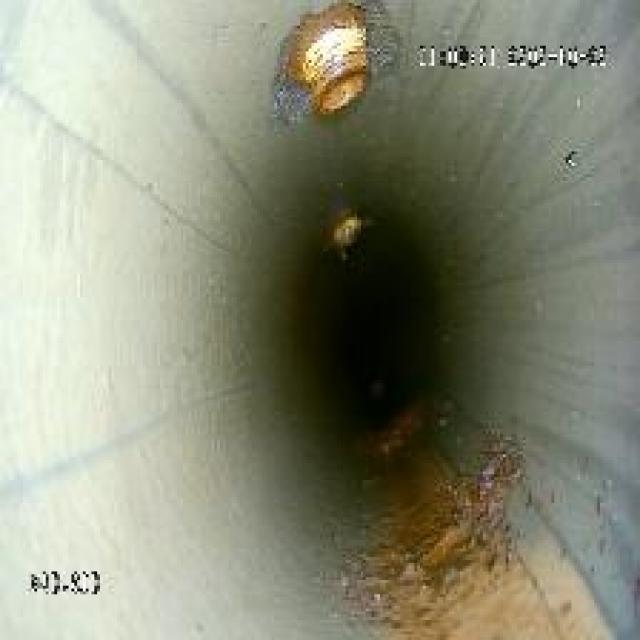ferrule: (269, 6, 374, 117), (323, 208, 368, 252)
